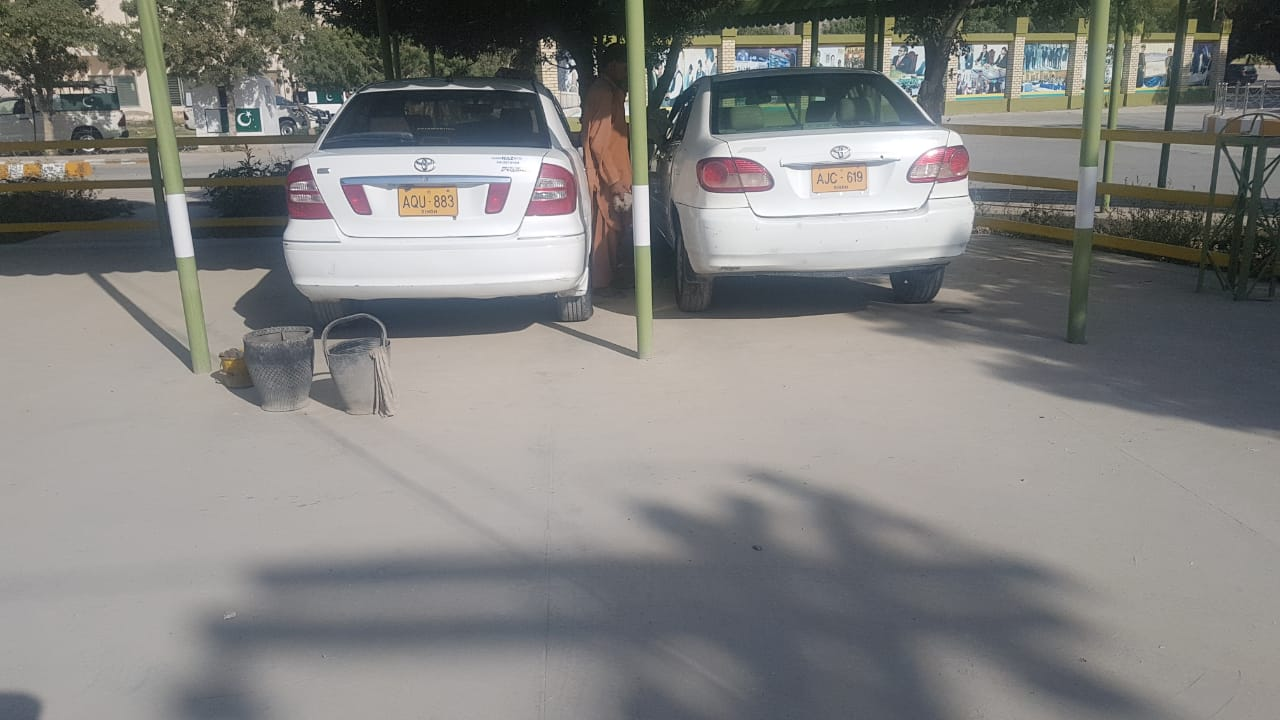license plate: (398, 187, 459, 215), (810, 165, 866, 191)
